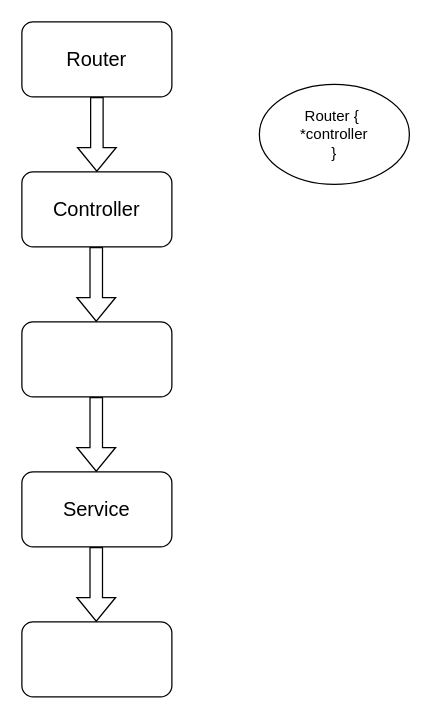
Image size: 431x719. Some labels were removed from this diagram. The shapes that lost their labels are listed below. From the top down, each one's centre as x and y in pixels, then its label:
At point 96,359: "Repository".
At point 96,659: "Queries".
